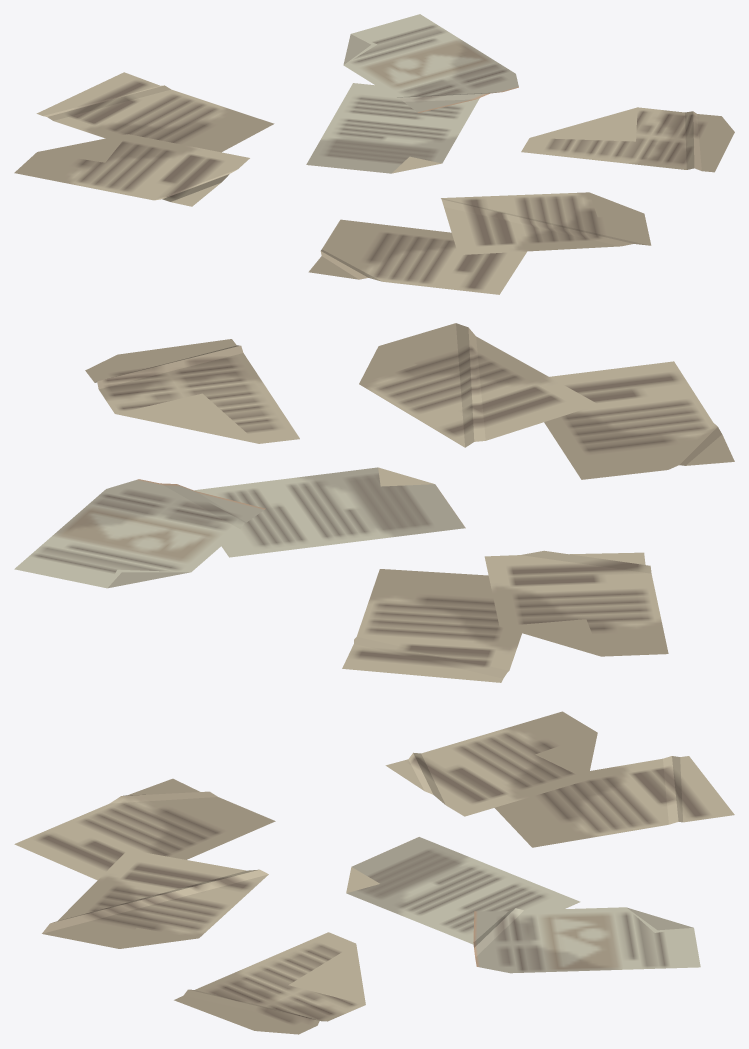
The model's file is Prop_Papers_01.glb.
3 views of the same model, one above another, from view 1: azimuth 30°, elevation 25°; view 2: azimuth 150°, elevation 25°; view 3: azimuth 270°, elevation 25° (orthographic). The views are drawn at different scales.
Parts seen in each view (by area): view 1: SM_Gen_Prop_Papers_01; view 2: SM_Gen_Prop_Papers_01; view 3: SM_Gen_Prop_Papers_01.
Boxes of the visible parts, x1,y1,x2,y2 form: SM_Gen_Prop_Papers_01: (14,14,734,294); SM_Gen_Prop_Papers_01: (14,323,734,682); SM_Gen_Prop_Papers_01: (14,711,734,1034).
Size of the model in its own units: 1.15 by 0.00961 by 1.09.
1 material, 1 textured.
